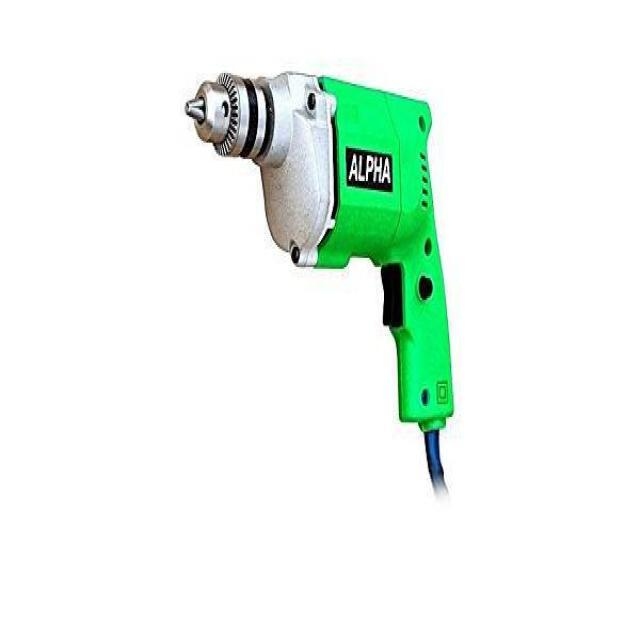drill: (185, 70, 455, 486)
